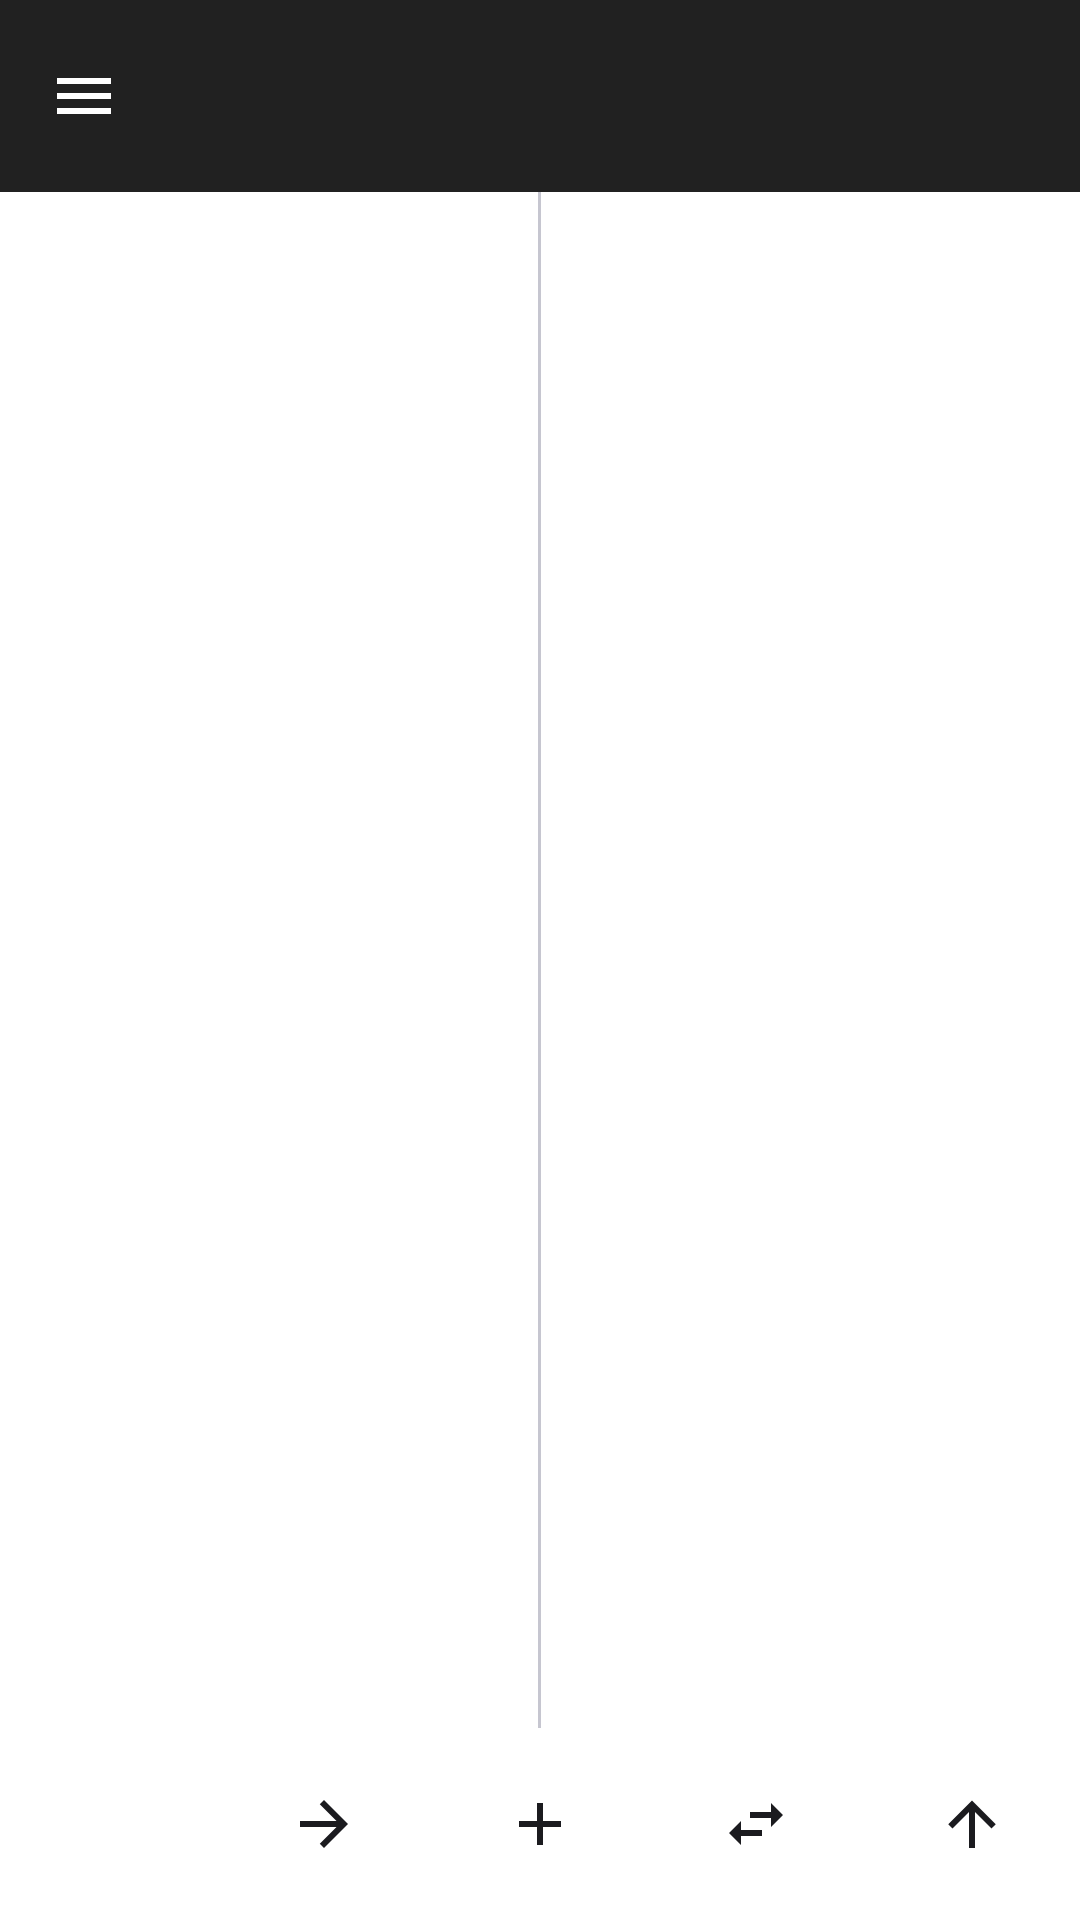

Locate icon controls on the screen. Image size 1080x1920, boxes as (x1, y1, x2, y2).
Forward: (300, 1800, 348, 1848)
New text file: (519, 1803, 561, 1845)
Swap panes: (729, 1803, 783, 1845)
Up: (948, 1800, 996, 1848)
